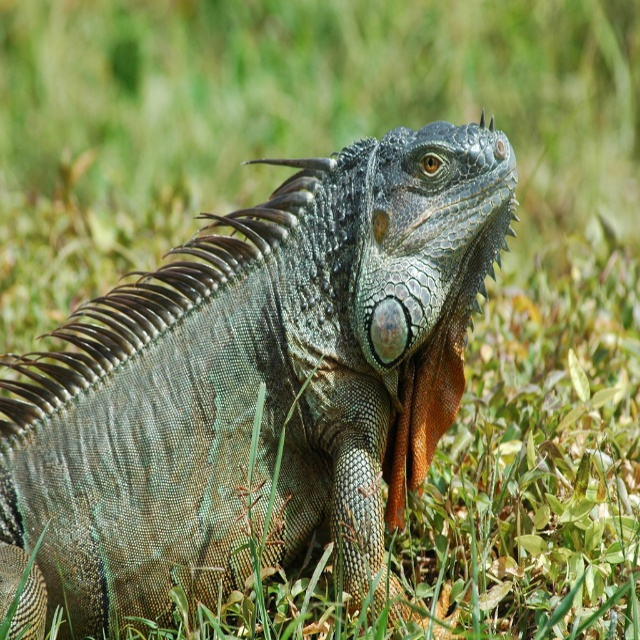Lizard: (0, 107, 520, 640)
